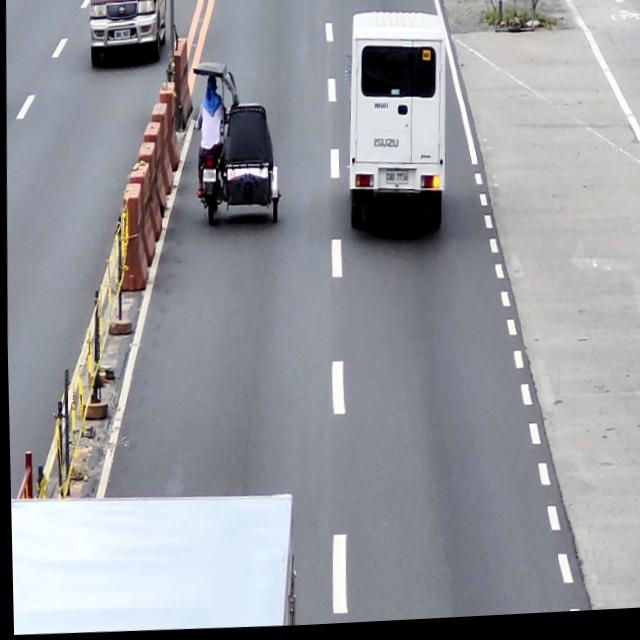Car: (339, 11, 449, 235)
License-Plate: (383, 174, 407, 188), (202, 170, 215, 184)
Tricycle: (189, 61, 283, 233)
Truck: (9, 485, 295, 639)
